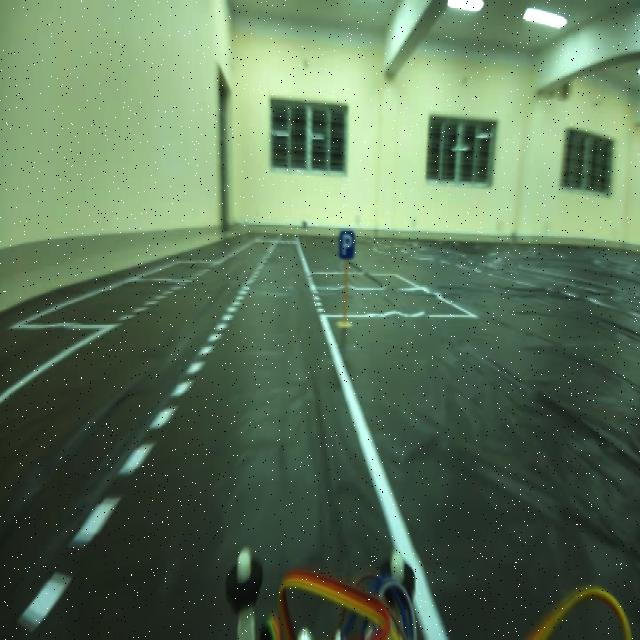parking: (337, 226, 360, 268)
